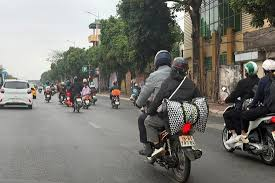Bien-so: (180, 135, 197, 148), (76, 98, 82, 102)
